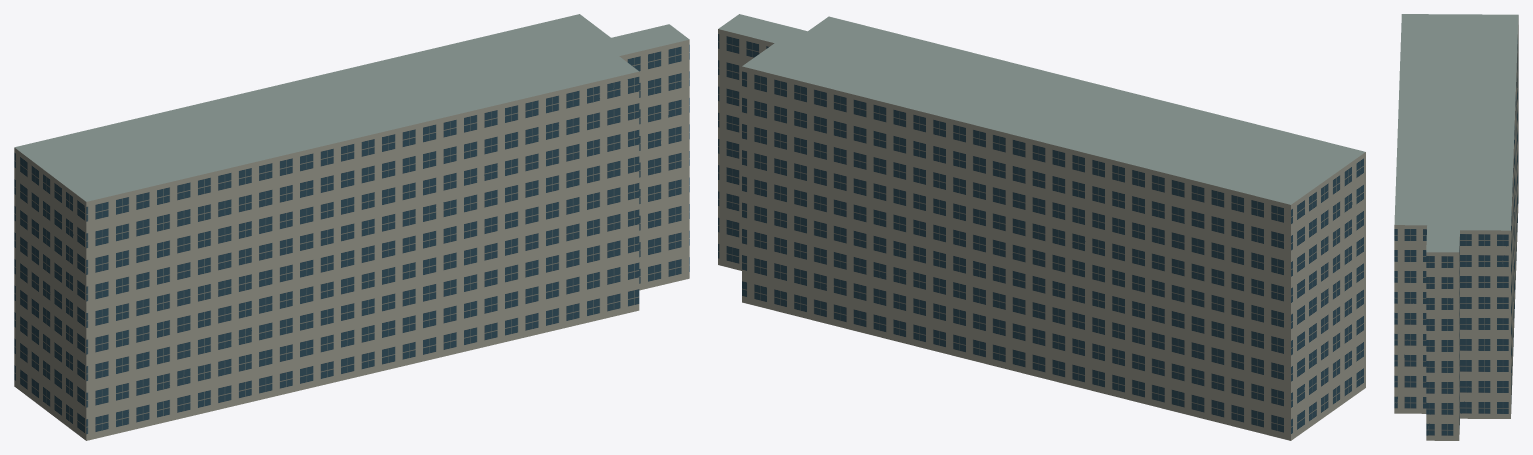
The model's file is intact.glb.
3 views of the same model, side by side, from view 1: azimuth 30°, elevation 25°; view 2: azimuth 150°, elevation 25°; view 3: azimuth 270°, elevation 25° (orthographic). The views are drawn at different scales.
Parts seen in each view (by area): view 1: SM_IT1_Intact; view 2: SM_IT1_Intact; view 3: SM_IT1_Intact.
Boxes of the visible parts, x1,y1,x2,y2 form: SM_IT1_Intact: (14, 14, 689, 440); SM_IT1_Intact: (718, 14, 1365, 440); SM_IT1_Intact: (1394, 14, 1518, 440).
Size of the model in its own units: 2.8 by 1.03 by 0.6155.
2 materials, 1 textured.
